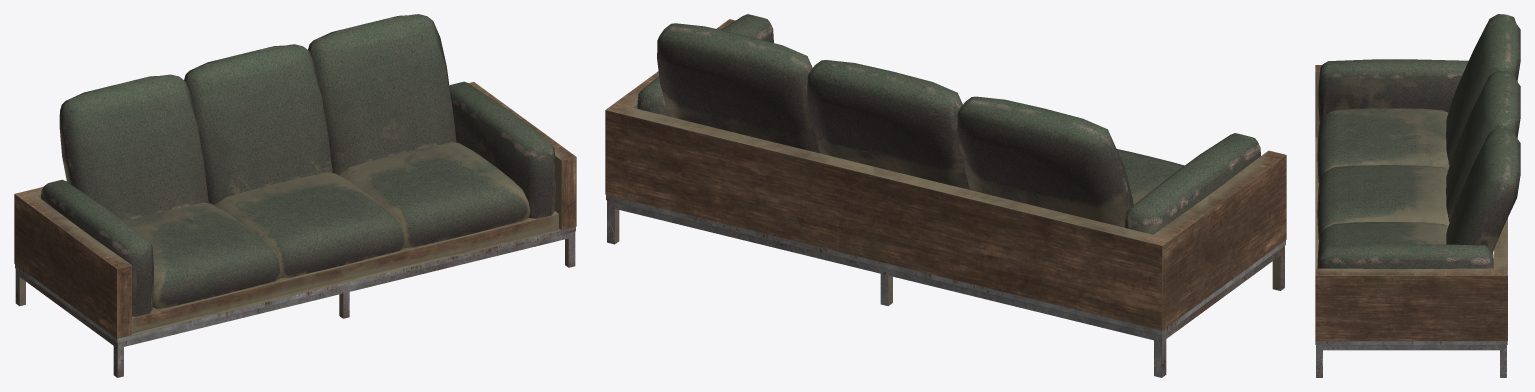
Rendered from kanepe.fbx.
The picture shows the model from 3 angles, left to right: view 1: azimuth 30°, elevation 25°; view 2: azimuth 150°, elevation 25°; view 3: azimuth 270°, elevation 25°; orthographic projection. The views are drawn at different scales.
Size of the model in its own units: 348 by 141 by 144.
